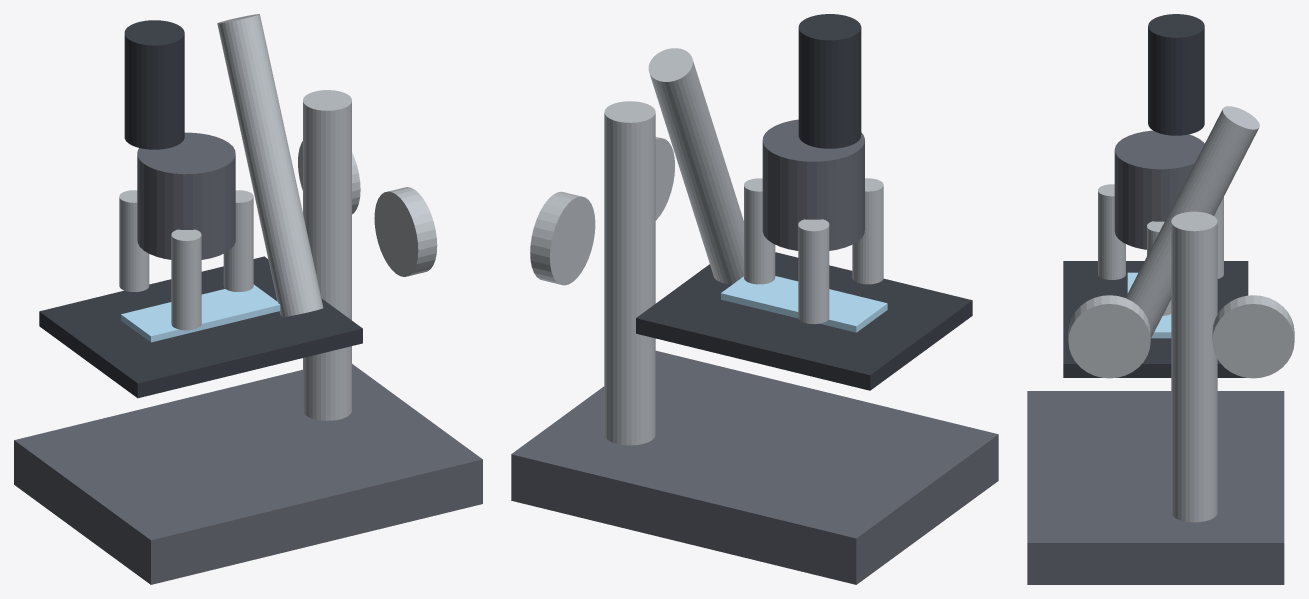
Rendered from asset_mic.glb.
The picture shows the model from 3 angles, left to right: view 1: azimuth 30°, elevation 25°; view 2: azimuth 150°, elevation 25°; view 3: azimuth 270°, elevation 25°; orthographic projection. The views are drawn at different scales.
Parts seen in each view (by area): view 1: base, stage, arm, column, obj_body, tube, knob_l, slide, lens_2, lens_1, lens_0; view 2: base, stage, column, arm, obj_body, tube, knob_r, slide, lens_1, lens_2, lens_0, knob_l; view 3: base, column, arm, obj_body, tube, stage, knob_l, knob_r, lens_2, lens_1, slide, lens_0.
Boxes of the visible parts, x1=… form: base: x1=14, y1=364, x2=482, y2=584; stage: x1=39, y1=256, x2=362, y2=398; arm: x1=217, y1=14, x2=323, y2=317; column: x1=303, y1=90, x2=351, y2=420; obj_body: x1=137, y1=132, x2=235, y2=259; tube: x1=124, y1=20, x2=184, y2=149; knob_l: x1=374, y1=187, x2=437, y2=276; slide: x1=121, y1=284, x2=280, y2=342; lens_2: x1=171, y1=229, x2=201, y2=330; lens_1: x1=119, y1=190, x2=149, y2=291; lens_0: x1=223, y1=190, x2=253, y2=291; base: x1=511, y1=350, x2=998, y2=584; stage: x1=636, y1=252, x2=972, y2=390; column: x1=604, y1=101, x2=655, y2=445; arm: x1=648, y1=48, x2=743, y2=284; obj_body: x1=762, y1=119, x2=864, y2=250; tube: x1=798, y1=14, x2=861, y2=148; knob_r: x1=530, y1=191, x2=595, y2=285; slide: x1=721, y1=276, x2=887, y2=332; lens_1: x1=798, y1=219, x2=829, y2=324; lens_2: x1=852, y1=178, x2=883, y2=284; lens_0: x1=744, y1=178, x2=775, y2=284; knob_l: x1=655, y1=137, x2=674, y2=220; base: x1=1027, y1=391, x2=1284, y2=584; column: x1=1171, y1=211, x2=1217, y2=522; arm: x1=1125, y1=106, x2=1259, y2=338; obj_body: x1=1114, y1=130, x2=1204, y2=249; tube: x1=1148, y1=14, x2=1204, y2=135; stage: x1=1063, y1=261, x2=1248, y2=377; knob_l: x1=1068, y1=295, x2=1150, y2=378; knob_r: x1=1212, y1=295, x2=1294, y2=378; lens_2: x1=1098, y1=184, x2=1125, y2=279; lens_1: x1=1214, y1=197, x2=1223, y2=278; slide: x1=1127, y1=272, x2=1171, y2=338; lens_0: x1=1147, y1=221, x2=1171, y2=315.
Size of the model in its own units: 1.4 by 1.91 by 1.04.
